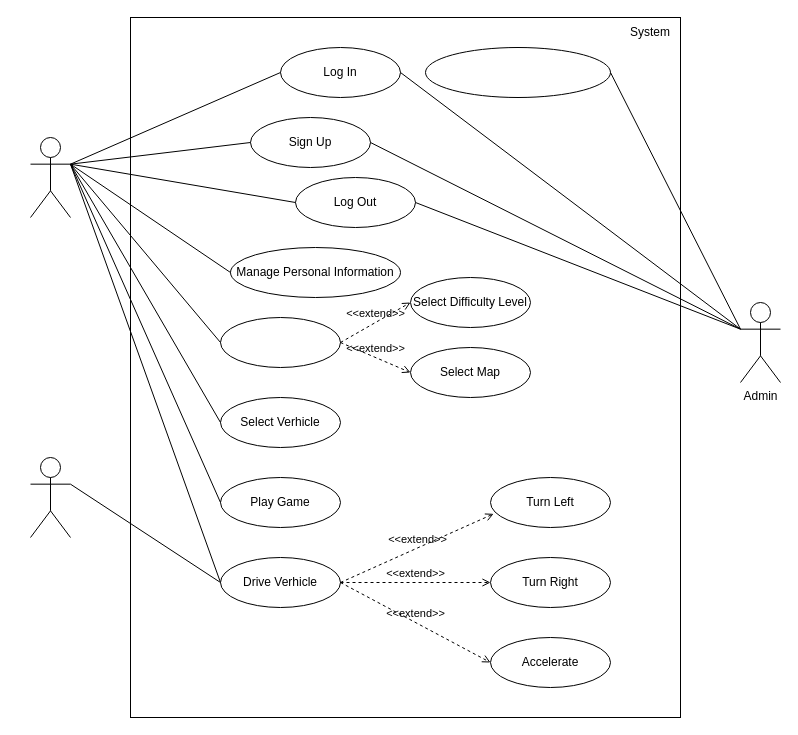
The diagram is 798 pixels wide and 735 high, and some of its shapes have lost their labels. The box of each missing label's shape, as (x1, y1, x2, y2) in pixels:
AI Opponent: (30, 456, 70, 538)
Manage Player Accounts: (424, 46, 610, 98)
Player: (30, 136, 70, 218)
Select mode: (220, 316, 340, 368)
